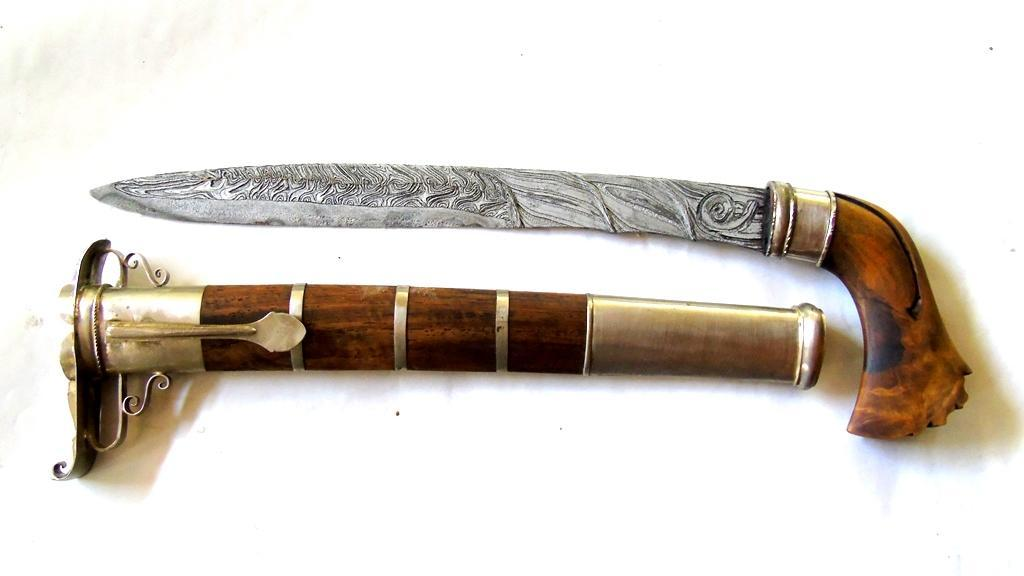facao: (91, 163, 971, 439)
